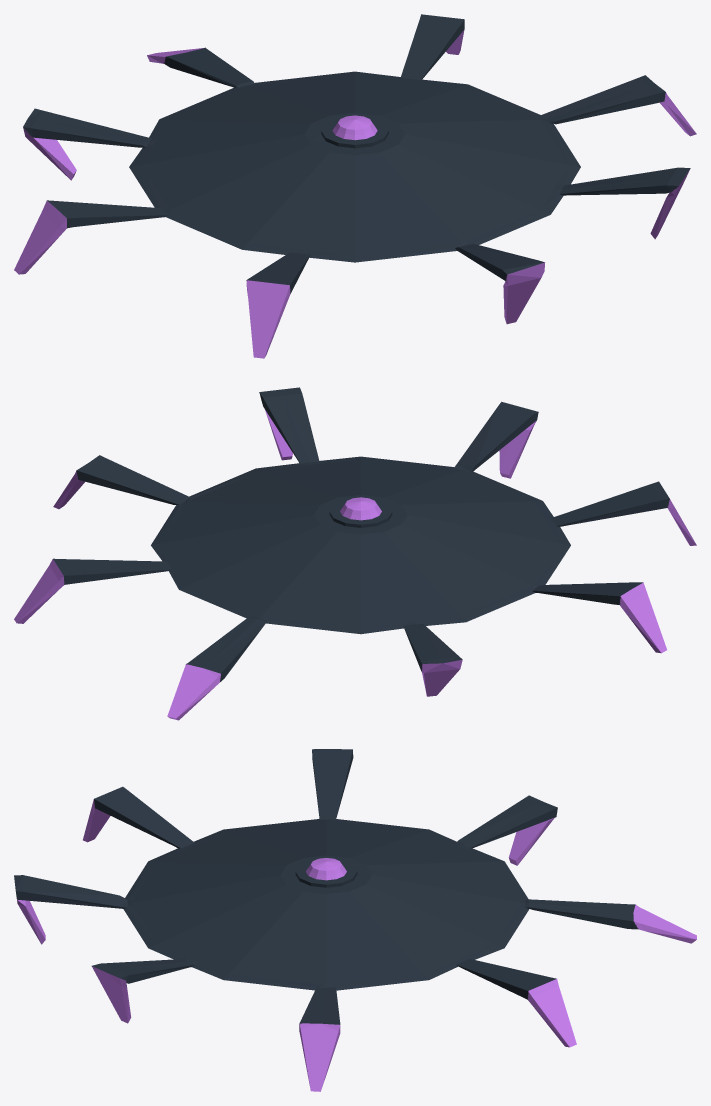
The model's file is Spider_Walk_000011.obj.
3 renders of one model, top to bottom at view 1: azimuth 30°, elevation 25°; view 2: azimuth 150°, elevation 25°; view 3: azimuth 270°, elevation 25°, orthographic. The views are drawn at different scales.
Visible parts, largest first — view 1: Circle_Circle.001; view 2: Circle_Circle.001; view 3: Circle_Circle.001.
Boxes of the visible parts, x1,y1,x2,y2 form: Circle_Circle.001: (14, 14, 696, 358); Circle_Circle.001: (14, 387, 696, 720); Circle_Circle.001: (14, 749, 696, 1091).
Size of the model in its own units: 3.41 by 0.4422 by 3.32.
